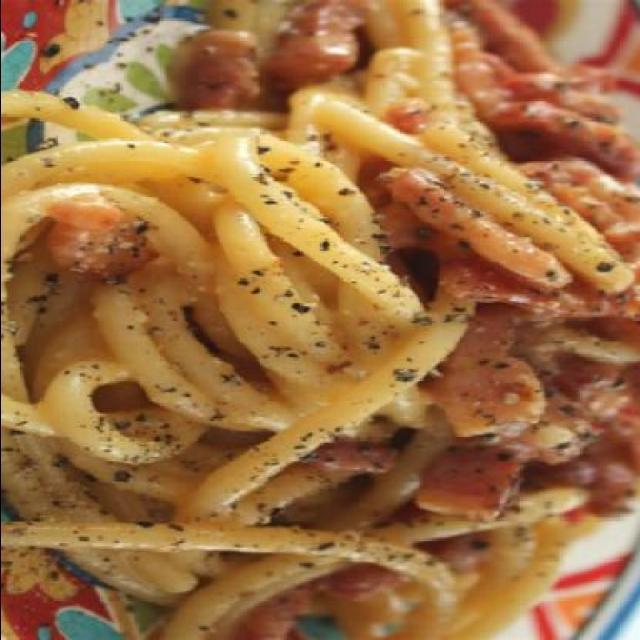Pasta with carbonara sauce: (19, 44, 638, 616)
